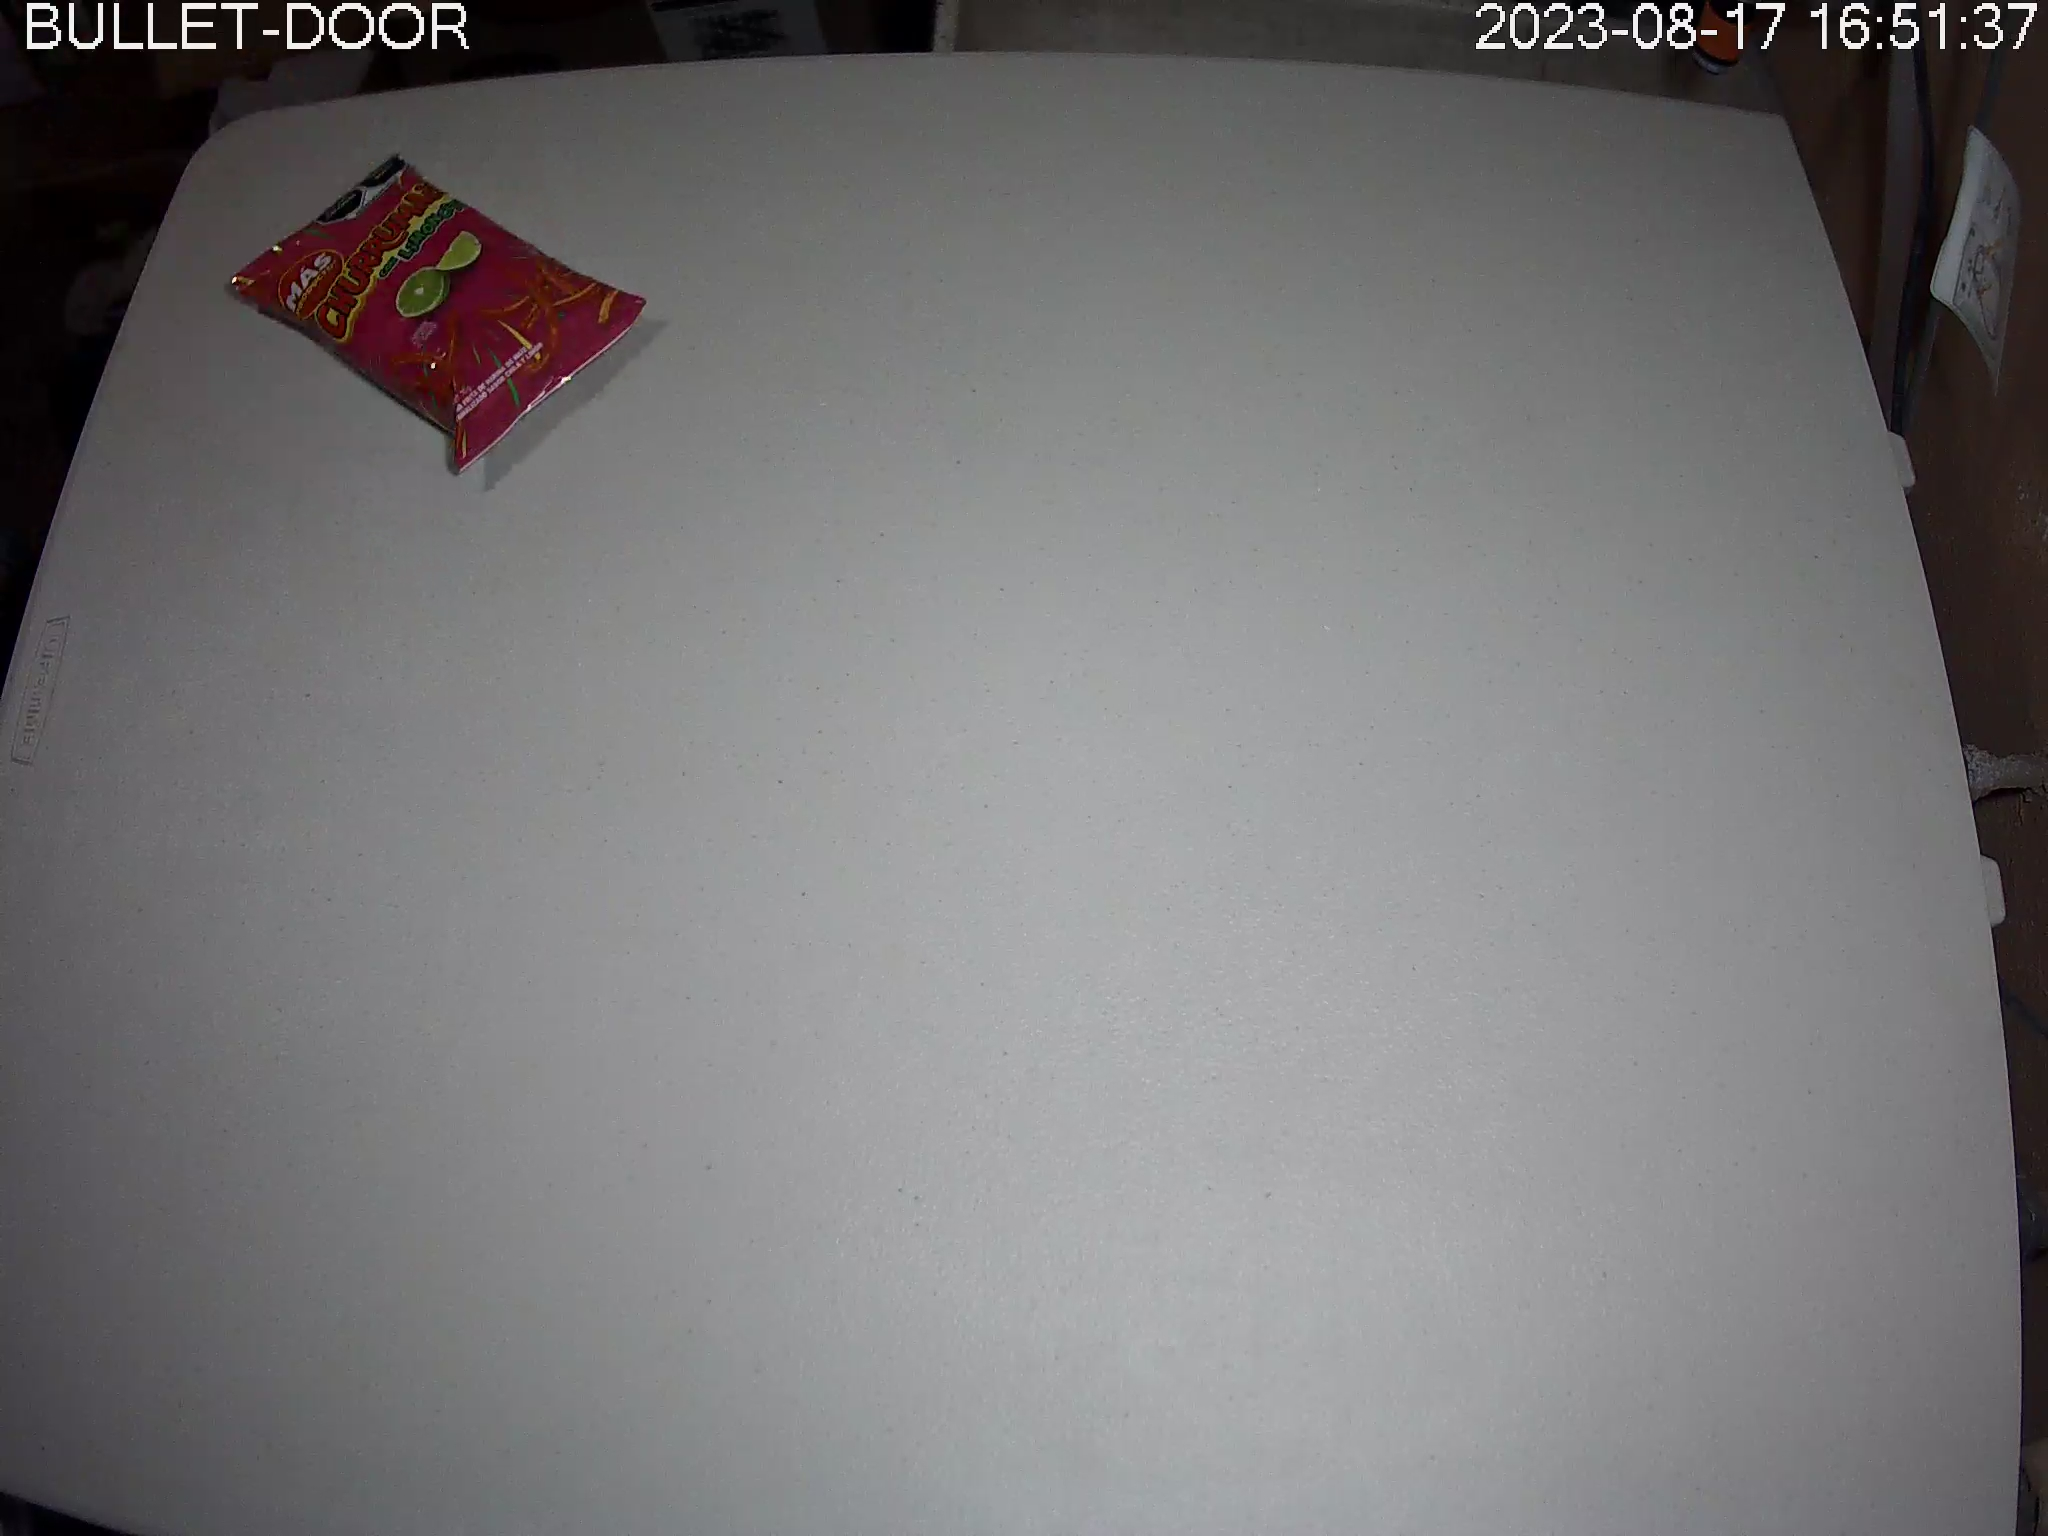Churrumais_70_F: (227, 152, 645, 476)
